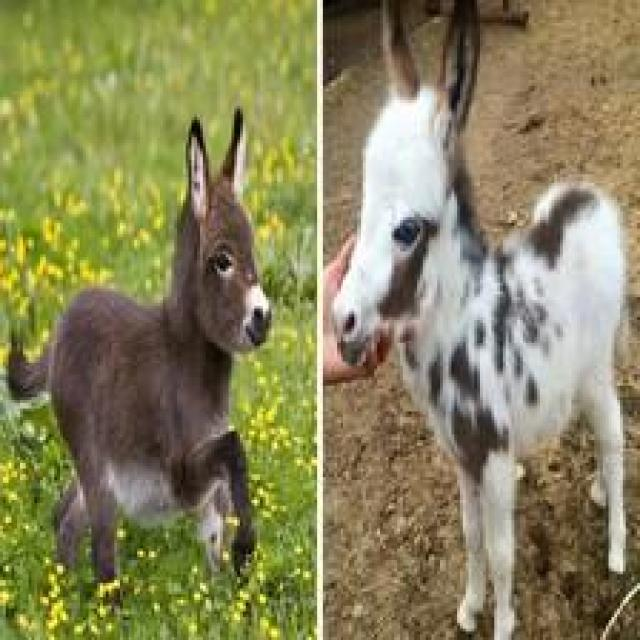Donkey: (328, 0, 628, 637), (3, 105, 271, 606)
